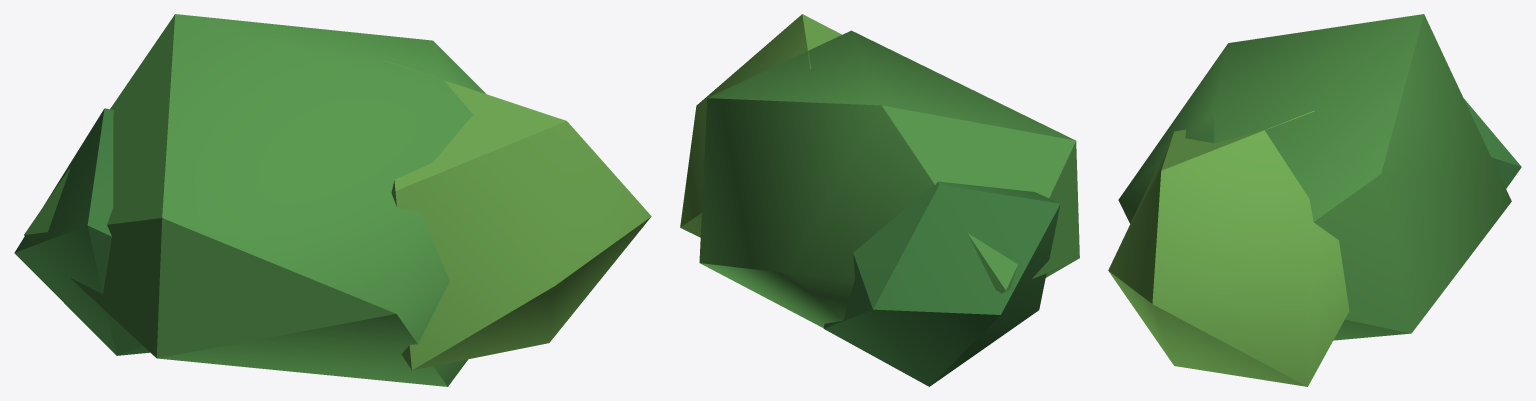
The model's file is bush.glb.
3 views of the same model, side by side, from view 1: azimuth 30°, elevation 25°; view 2: azimuth 150°, elevation 25°; view 3: azimuth 270°, elevation 25° (orthographic). The views are drawn at different scales.
Parts seen in each view (by area): view 1: PROP_bush; view 2: PROP_bush; view 3: PROP_bush.
Part boxes in pixels (x1,y1,x2,y2): PROP_bush: (14,14,651,386); PROP_bush: (680,14,1079,386); PROP_bush: (1108,14,1521,386).
Bounding box in the file's own units: 1.87 × 1.2 × 1.59.
